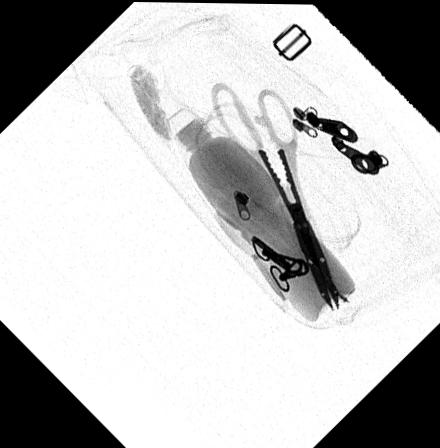Scissors: (207, 77, 341, 318)
